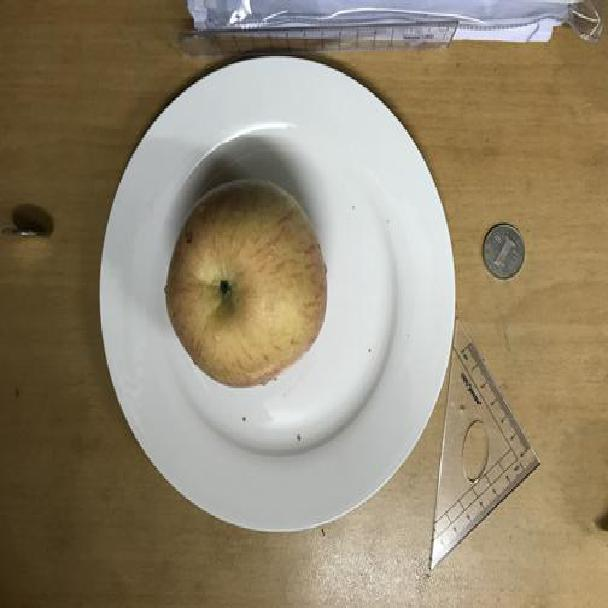apple: (162, 179, 333, 390)
